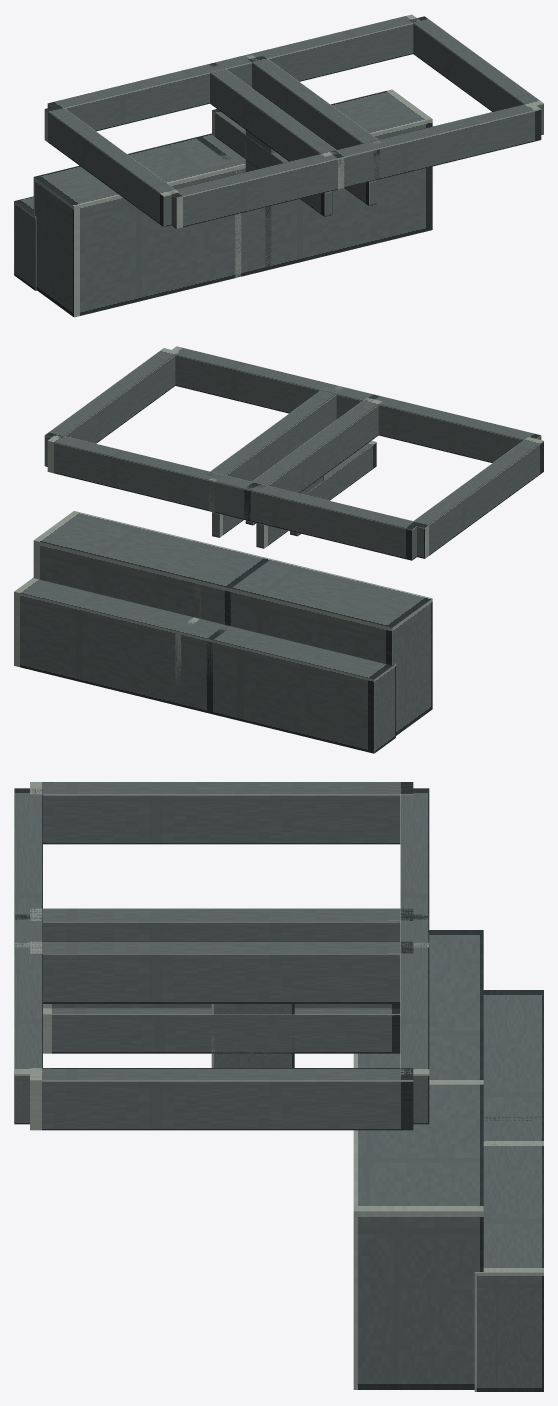
File: workpiece_xuantie_boots_shaped.obj
The picture shows the model from 3 angles, top to bottom: view 1: azimuth 30°, elevation 25°; view 2: azimuth 150°, elevation 25°; view 3: azimuth 270°, elevation 25°; orthographic projection. The views are drawn at different scales.
Visible parts, largest first — view 1: geometry; view 2: geometry; view 3: geometry.
Part boxes in pixels (x1,y1,x2,y2): geometry: (14,14,543,317); geometry: (14,346,543,753); geometry: (14,782,543,1391).
Bounding box in the file's own units: 0.56 × 0.2794 × 0.4203.
